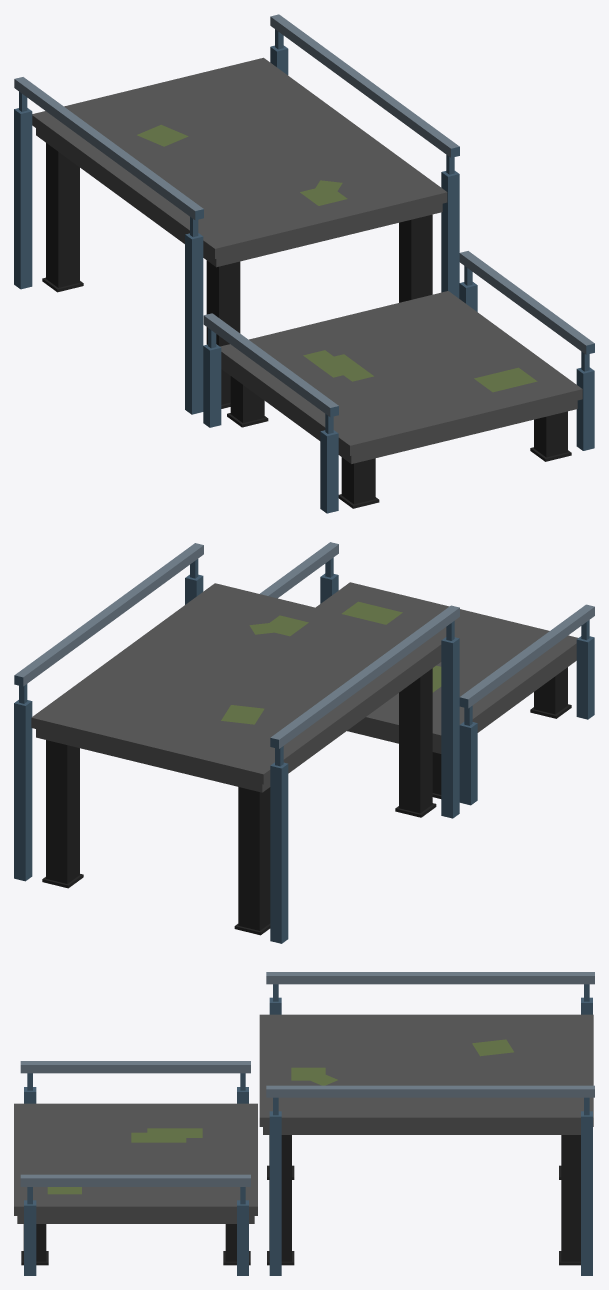
File: obstacle.fbx
The picture shows the model from 3 angles, top to bottom: view 1: azimuth 30°, elevation 25°; view 2: azimuth 150°, elevation 25°; view 3: azimuth 270°, elevation 25°; orthographic projection. The views are drawn at different scales.
Parts seen in each view (by area): view 1: obstacle; view 2: obstacle; view 3: obstacle.
Boxes of the visible parts, x1,y1,x2,y2 form: obstacle: [14, 14, 594, 513]; obstacle: [14, 542, 594, 943]; obstacle: [14, 972, 594, 1275].
Size of the model in its own units: 34.33 by 25.06 by 70.95.
